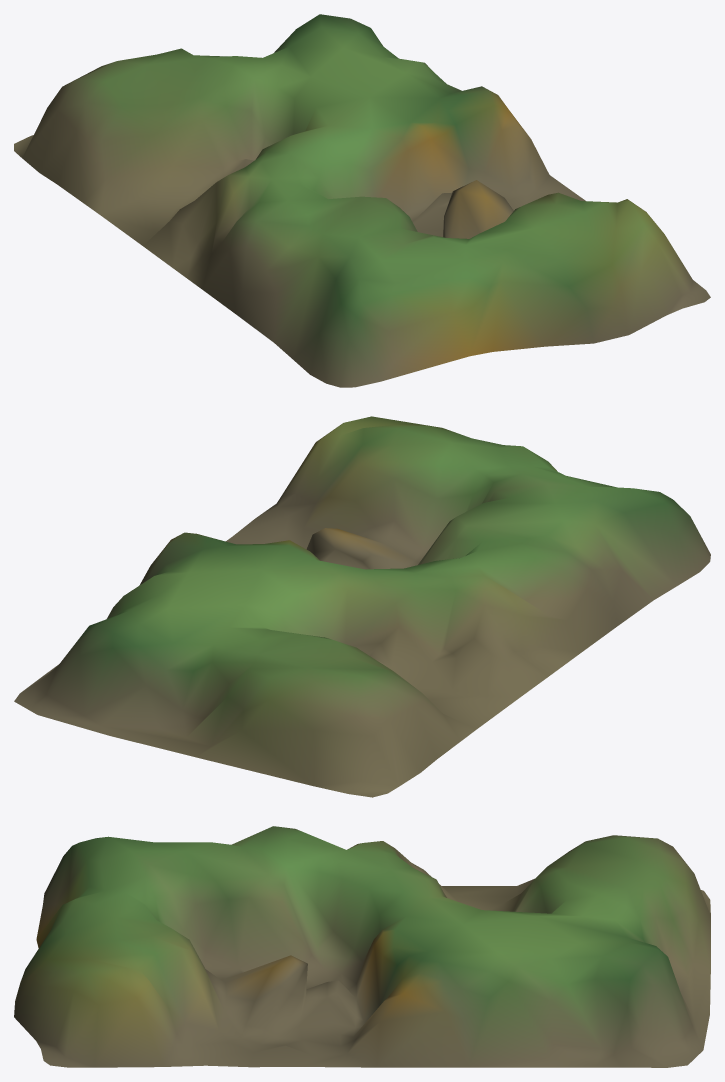
Rendered from cliffyCourse_lp2.glb.
3 views of the same model, one above another, from view 1: azimuth 30°, elevation 25°; view 2: azimuth 150°, elevation 25°; view 3: azimuth 270°, elevation 25° (orthographic). The views are drawn at different scales.
Visible parts, largest first — view 1: CliffyCourse-colonly.001; view 2: CliffyCourse-colonly.001; view 3: CliffyCourse-colonly.001.
Part boxes in pixels (left/top/right/bottom): CliffyCourse-colonly.001: left=14, top=14, right=710, bottom=387; CliffyCourse-colonly.001: left=14, top=416, right=710, bottom=797; CliffyCourse-colonly.001: left=14, top=826, right=710, bottom=1067.
Bounding box in the file's own units: 38.02 × 8.22 × 60.58.
